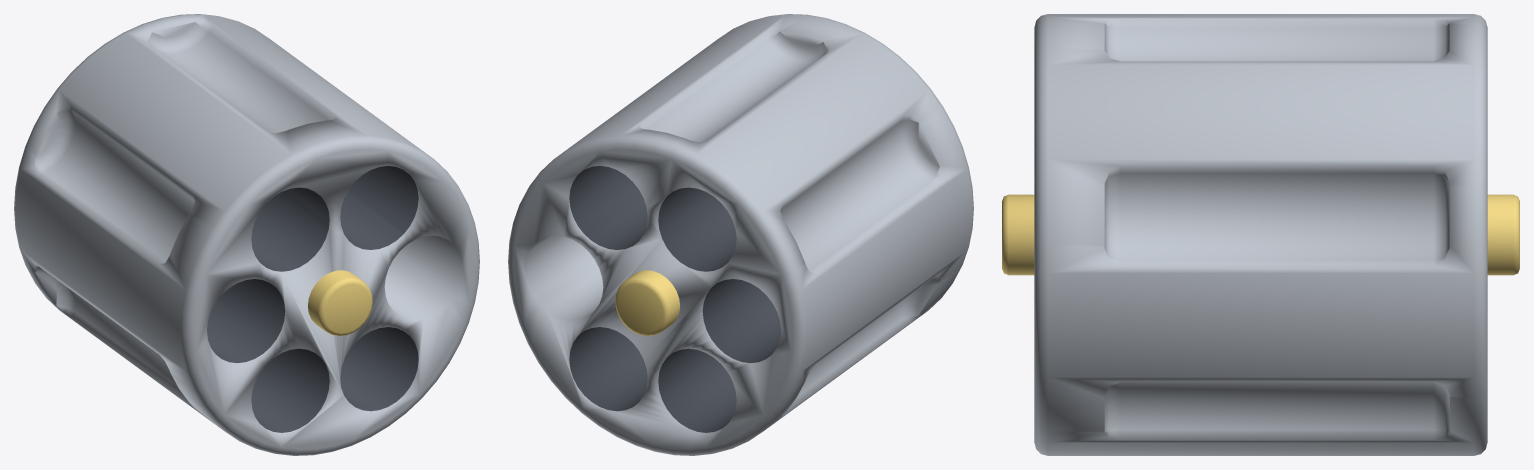
The model's file is revolver_cylinder.glb.
The picture shows the model from 3 angles, left to right: view 1: azimuth 30°, elevation 25°; view 2: azimuth 150°, elevation 25°; view 3: azimuth 270°, elevation 25°; orthographic projection. The views are drawn at different scales.
Visible parts, largest first — view 1: CylinderBody, CylinderSpindle; view 2: CylinderBody, CylinderSpindle; view 3: CylinderBody, CylinderSpindle.
Part boxes in pixels (x1=…): CylinderBody: x1=14, y1=14, x2=479, y2=455; CylinderSpindle: x1=308, y1=270, x2=372, y2=335; CylinderBody: x1=508, y1=14, x2=973, y2=455; CylinderSpindle: x1=615, y1=270, x2=679, y2=335; CylinderBody: x1=1034, y1=14, x2=1487, y2=455; CylinderSpindle: x1=1002, y1=194, x2=1519, y2=275.
Bounding box in the file's own units: 0.82 × 0.82 × 0.96.
